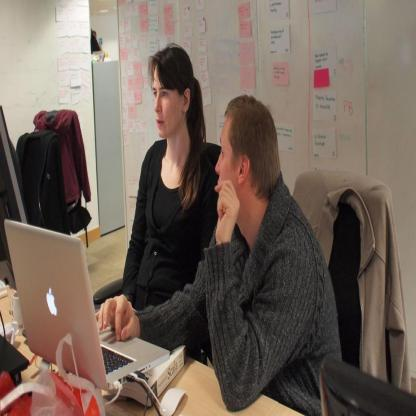board: (3, 219, 167, 389)
